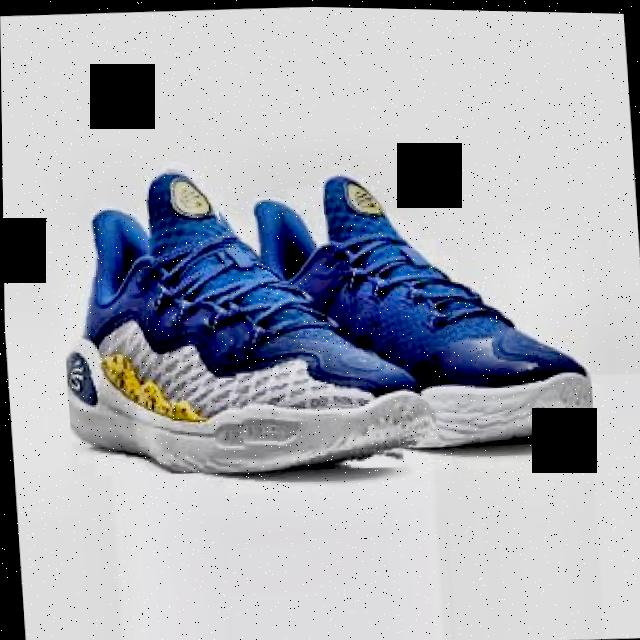shoe: (52, 152, 418, 483), (215, 155, 594, 458)
